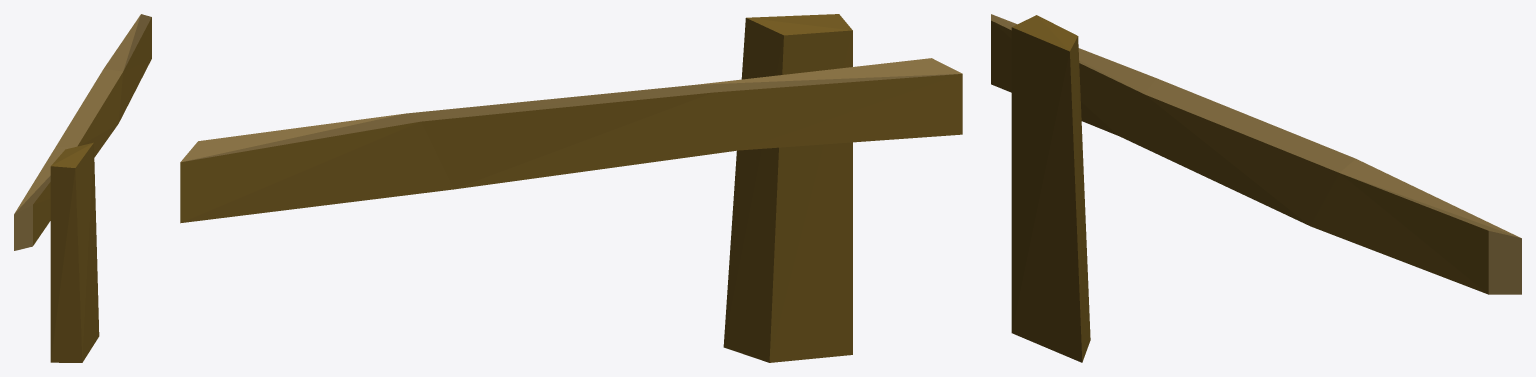
3 renders of one model, left to right at view 1: azimuth 30°, elevation 25°; view 2: azimuth 150°, elevation 25°; view 3: azimuth 270°, elevation 25°, orthographic. The views are drawn at different scales.
Bounding box in the file's own units: 128 × 81 × 128.
1 material, 1 textured.
